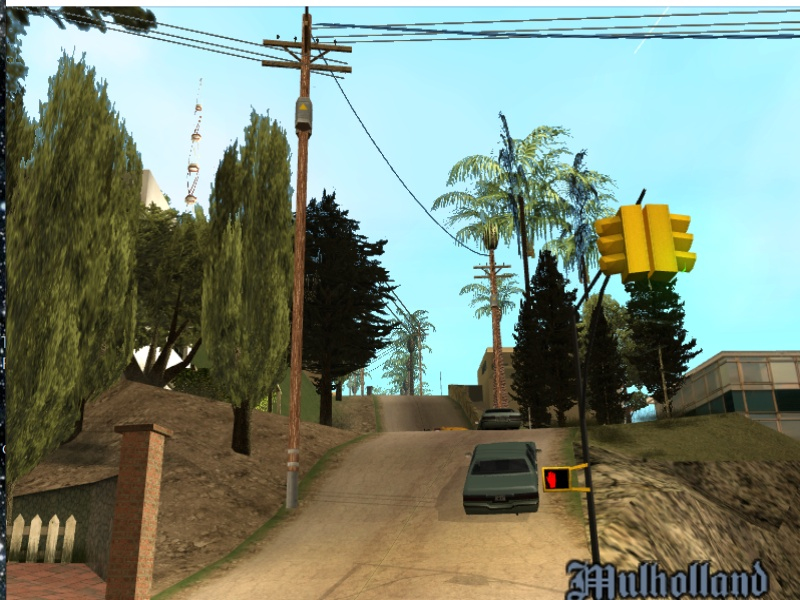pole: (570, 356, 612, 562), (281, 136, 302, 512), (485, 268, 508, 402)
vehicle: (461, 440, 546, 517), (477, 407, 522, 428)
